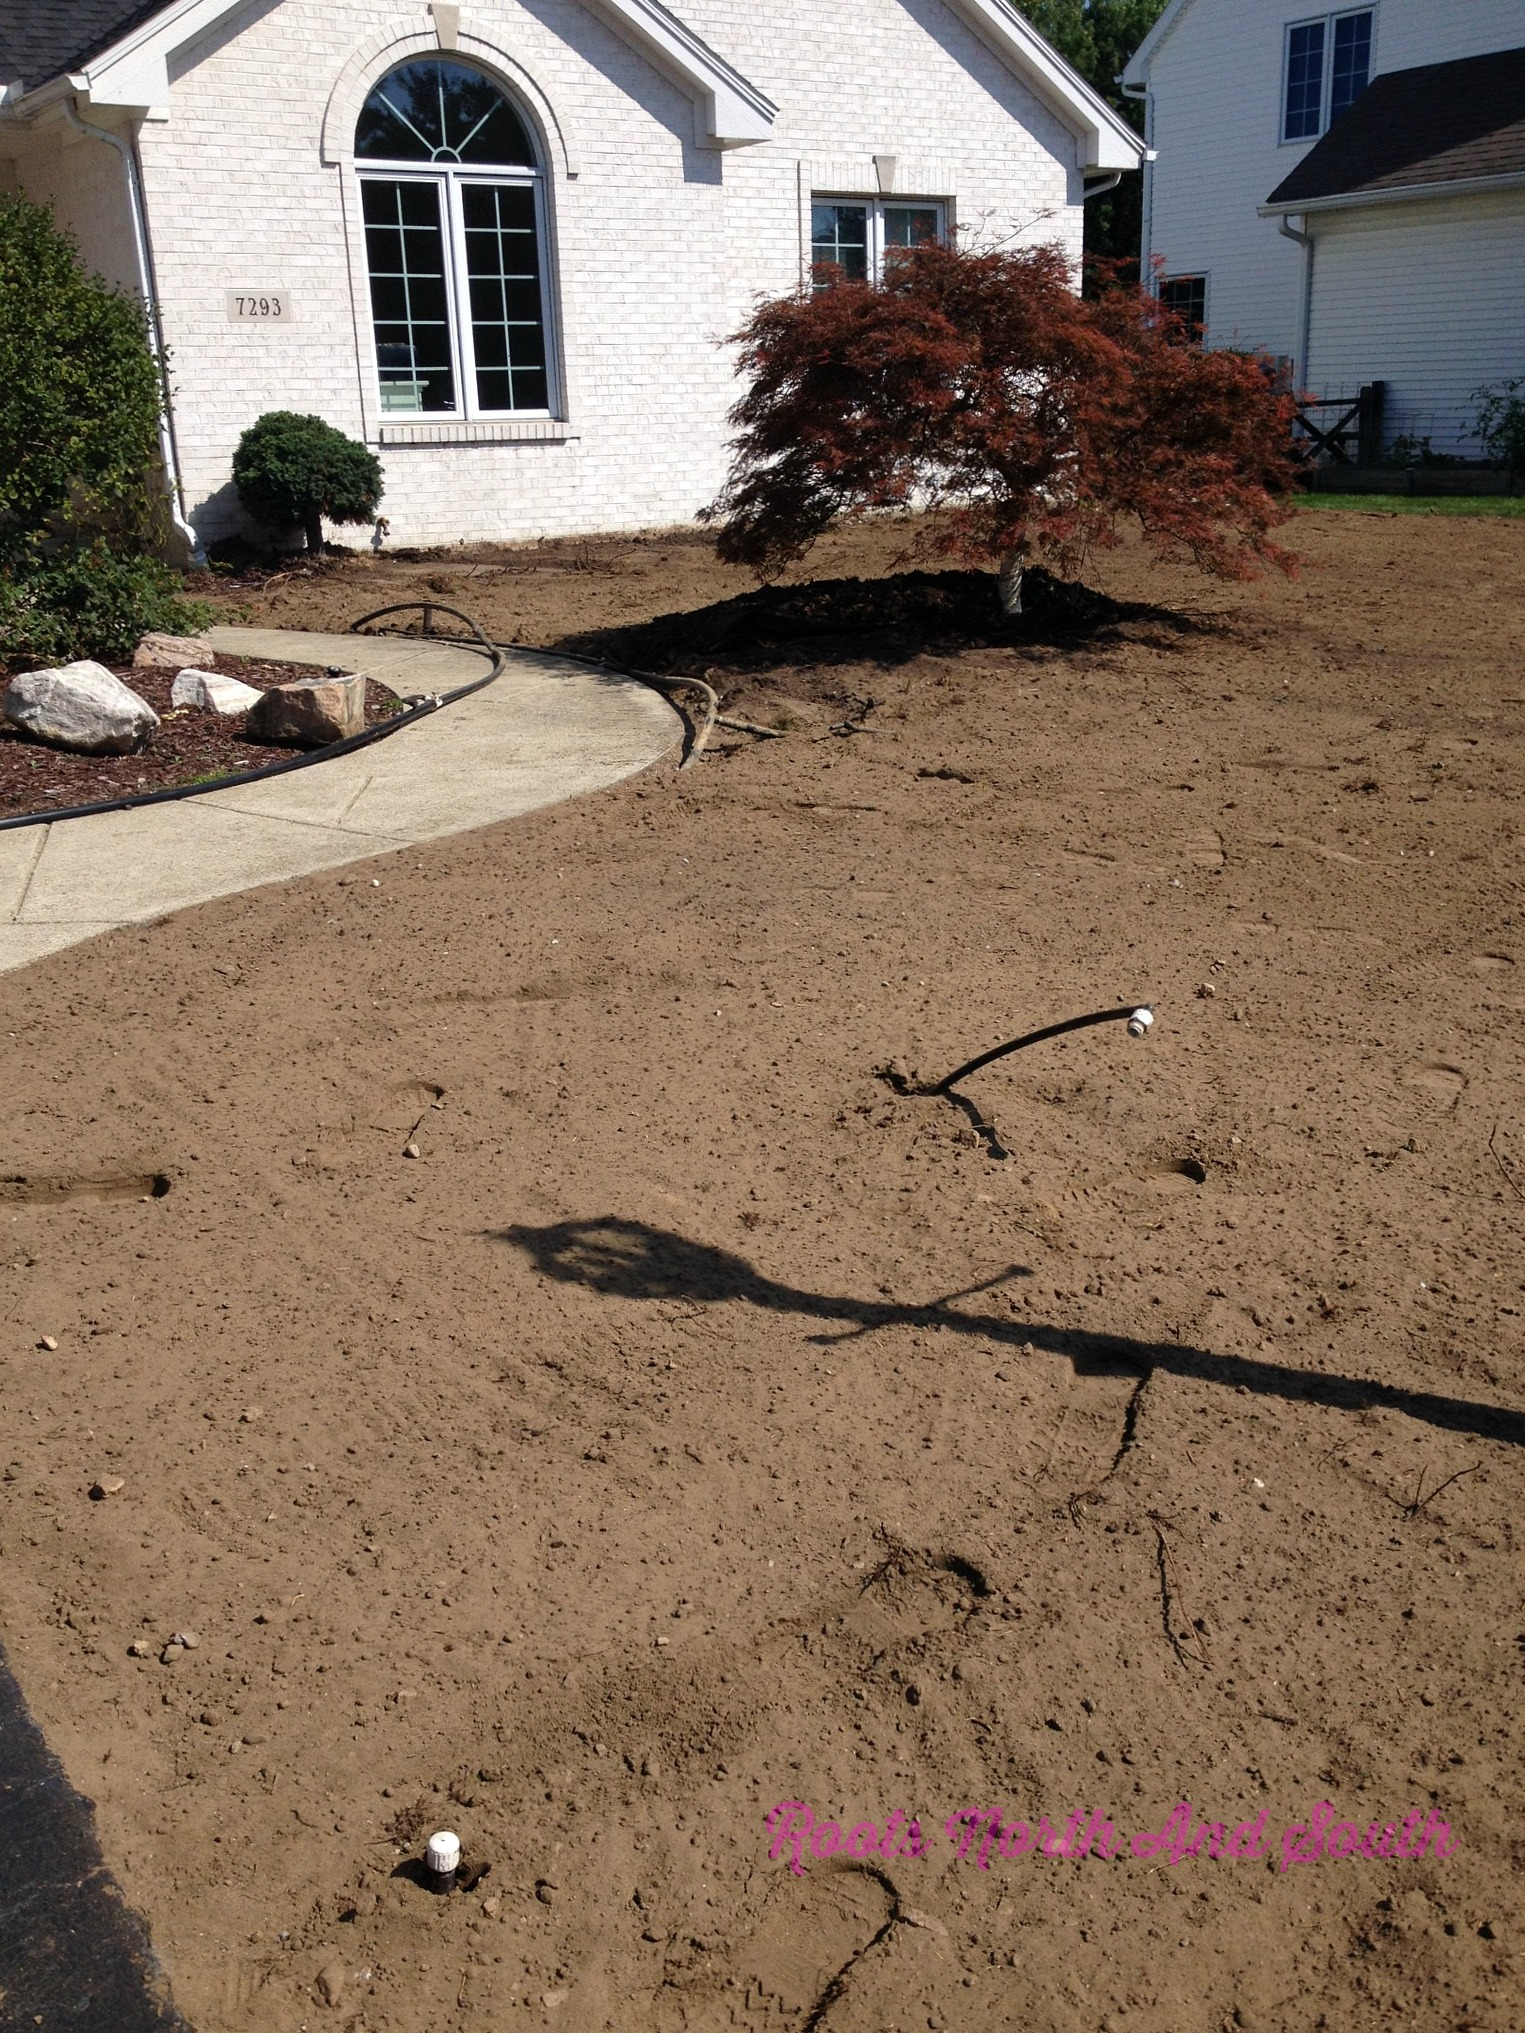dirt: (10, 878, 1520, 2014), (686, 628, 1523, 875)
